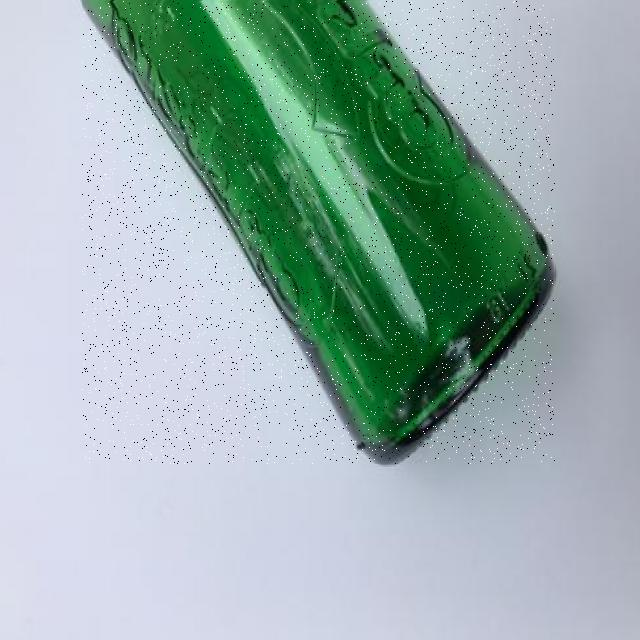glass: (83, 1, 555, 464)
